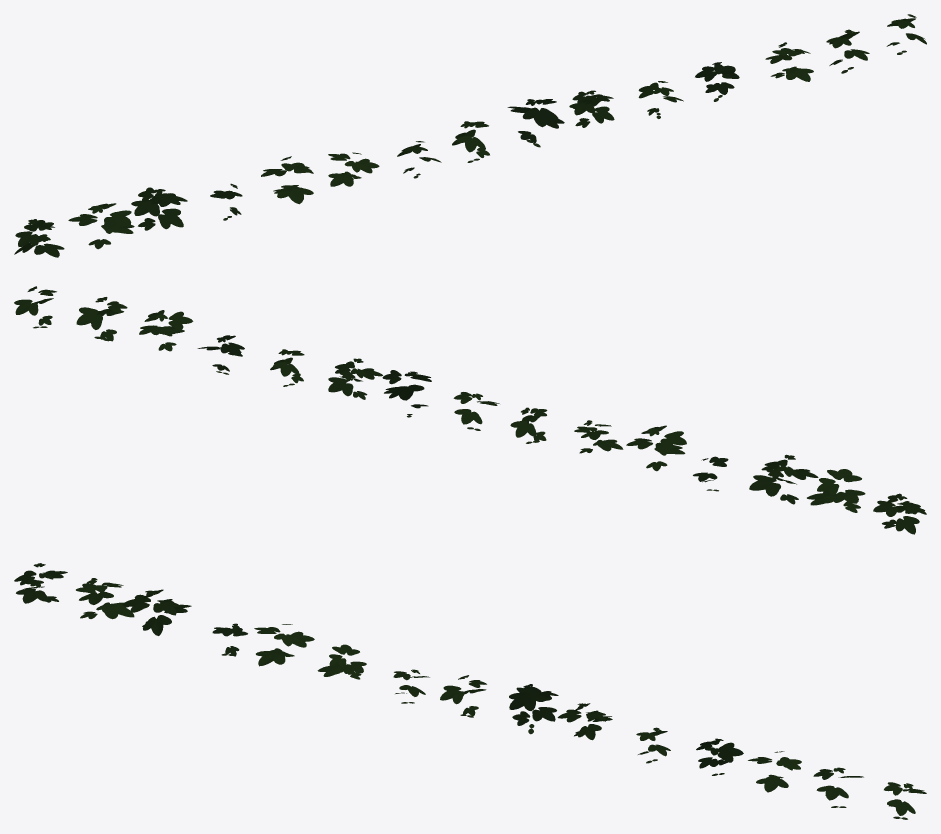
The model's file is ROW_14_SEG4_foliage.dae.
3 views of the same model, one above another, from view 1: azimuth 30°, elevation 25°; view 2: azimuth 150°, elevation 25°; view 3: azimuth 330°, elevation 25° (orthographic).
Visible parts, largest first — view 1: ROW_14_SEG4_foliage; view 2: ROW_14_SEG4_foliage; view 3: ROW_14_SEG4_foliage.
Part boxes in pixels (x1,y1,x2,y2): ROW_14_SEG4_foliage: (14, 14, 926, 257); ROW_14_SEG4_foliage: (14, 286, 926, 534); ROW_14_SEG4_foliage: (14, 563, 926, 819).
Size of the model in its own units: 4.48 by 0.3075 by 0.2393.
